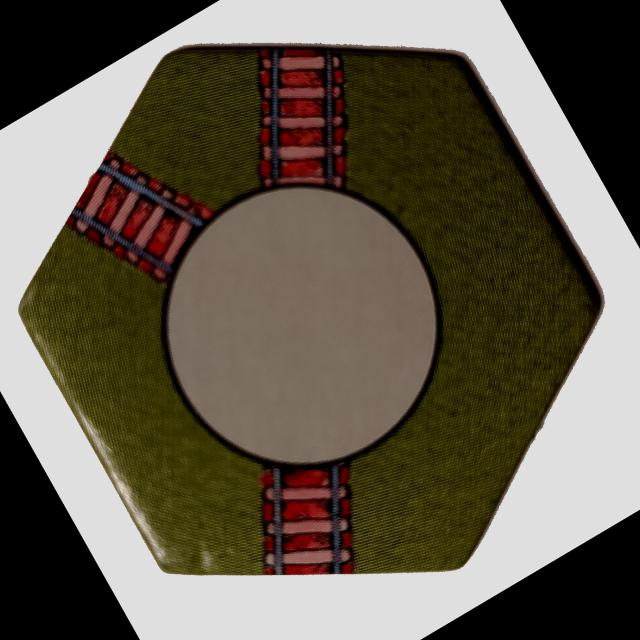14_2: (18, 46, 603, 572)
